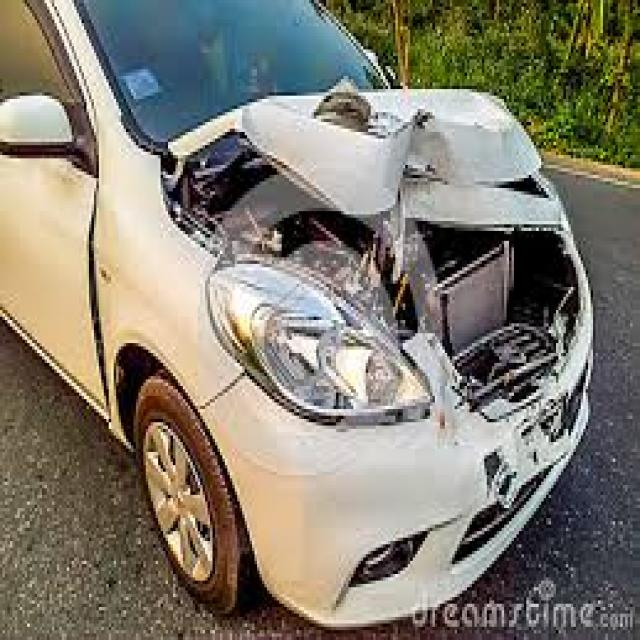severe: (128, 53, 640, 597)
